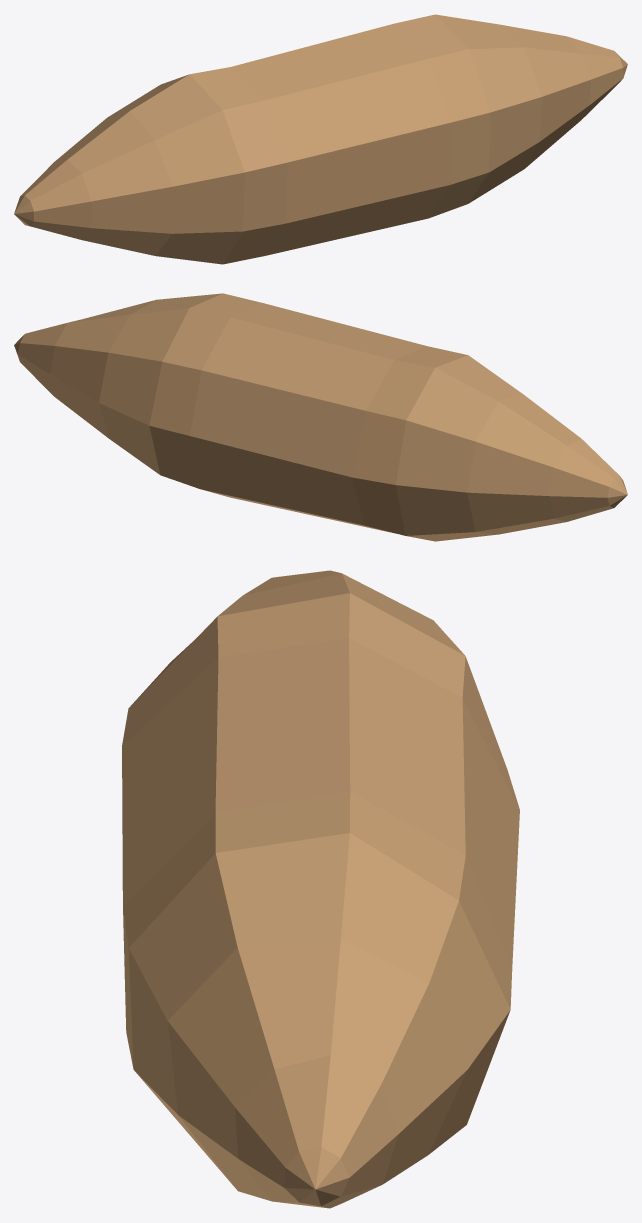
Rendered from gulli.glb.
The picture shows the model from 3 angles, top to bottom: view 1: azimuth 30°, elevation 25°; view 2: azimuth 150°, elevation 25°; view 3: azimuth 270°, elevation 25°; orthographic projection. The views are drawn at different scales.
Parts seen in each view (by area): view 1: Gulli; view 2: Gulli; view 3: Gulli.
Boxes of the visible parts, box(x1,y1,x2,y2) form: Gulli: box(14, 14, 627, 264); Gulli: box(14, 293, 627, 541); Gulli: box(122, 570, 519, 1208).
Bounding box in the file's own units: 1.5 × 0.4209 × 0.4211.
